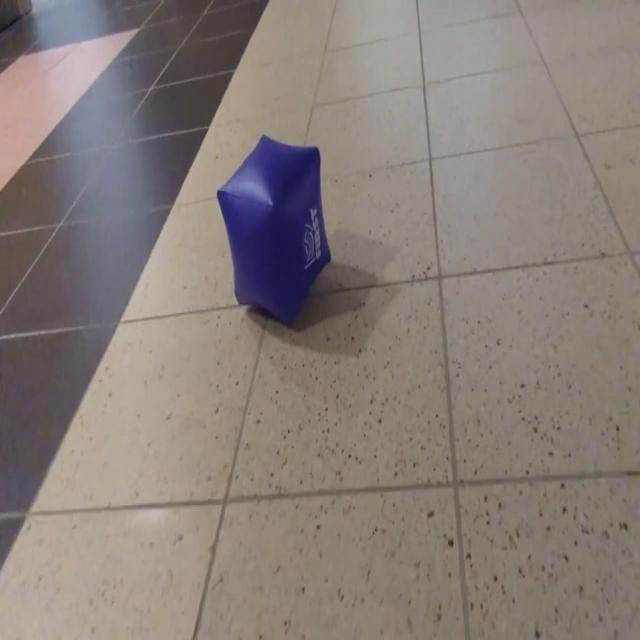frc_cube: (216, 137, 332, 325)
